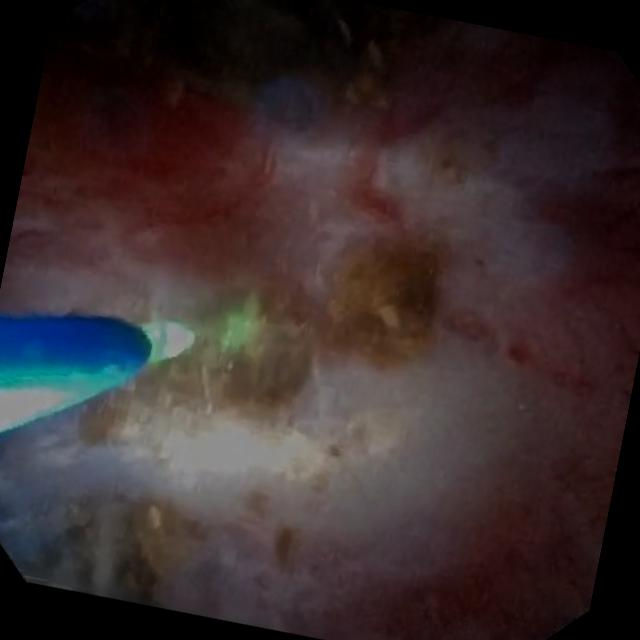laser-fibre: (141, 324, 195, 362)
laser_dot: (217, 313, 253, 353)
stone-new: (149, 0, 387, 106), (128, 295, 312, 416), (52, 498, 204, 598), (327, 247, 436, 369), (81, 394, 130, 445), (273, 527, 295, 568), (139, 535, 139, 536)
